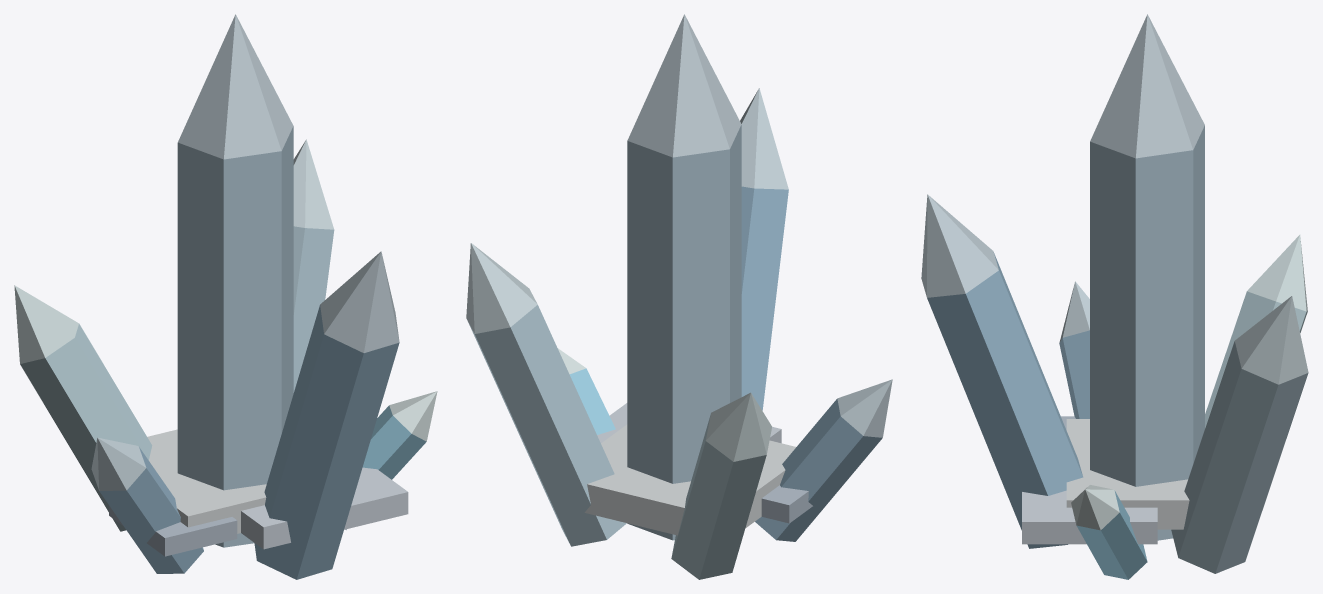
Rendered from ice_crystal.glb.
The picture shows the model from 3 angles, left to right: view 1: azimuth 30°, elevation 25°; view 2: azimuth 150°, elevation 25°; view 3: azimuth 270°, elevation 25°; orthographic projection.
Visible parts, largest first — view 1: ice_crystal; view 2: ice_crystal; view 3: ice_crystal.
Boxes of the visible parts, bbox=[...] form: ice_crystal: bbox=[14, 14, 437, 579]; ice_crystal: bbox=[466, 14, 892, 579]; ice_crystal: bbox=[921, 14, 1308, 579].
Size of the model in its own units: 1.95 by 2.84 by 1.91.
